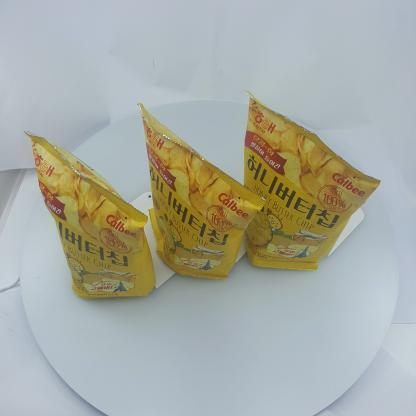Plastic Packaging: (245, 90, 357, 276), (30, 132, 148, 304), (145, 107, 243, 281)
